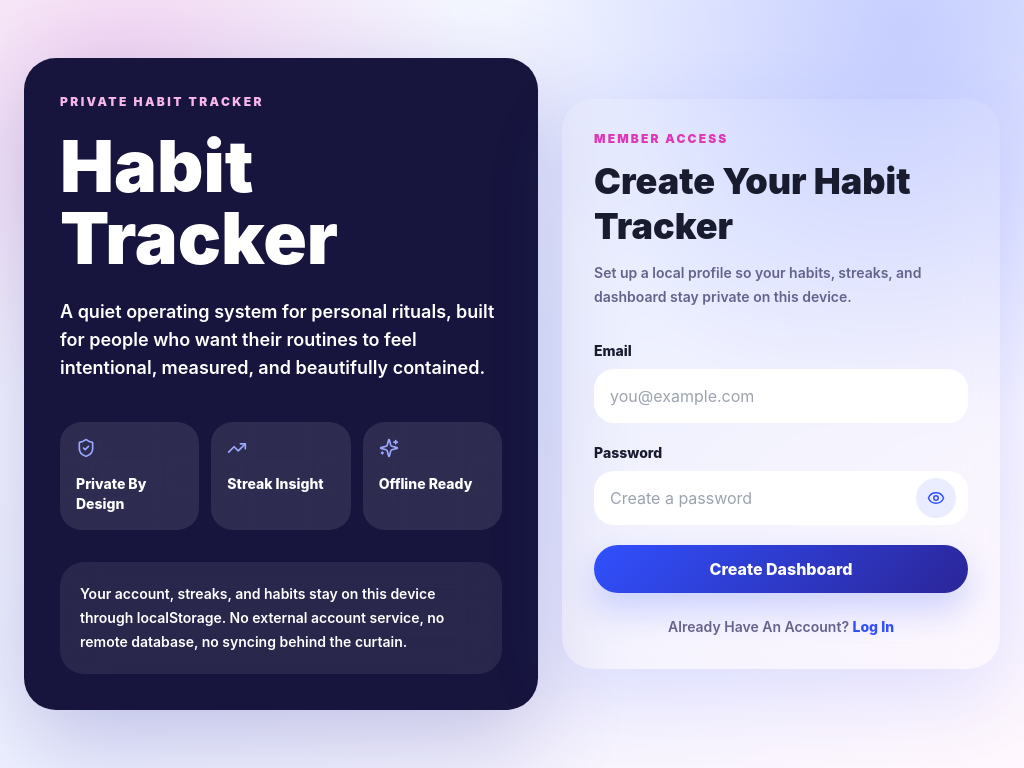
Test case: auth flow › shows an error for duplicate signup email
In the field with test id "auth-signup-email": (781, 396) left=594, top=369, right=968, bottom=423, type "person@example.com"
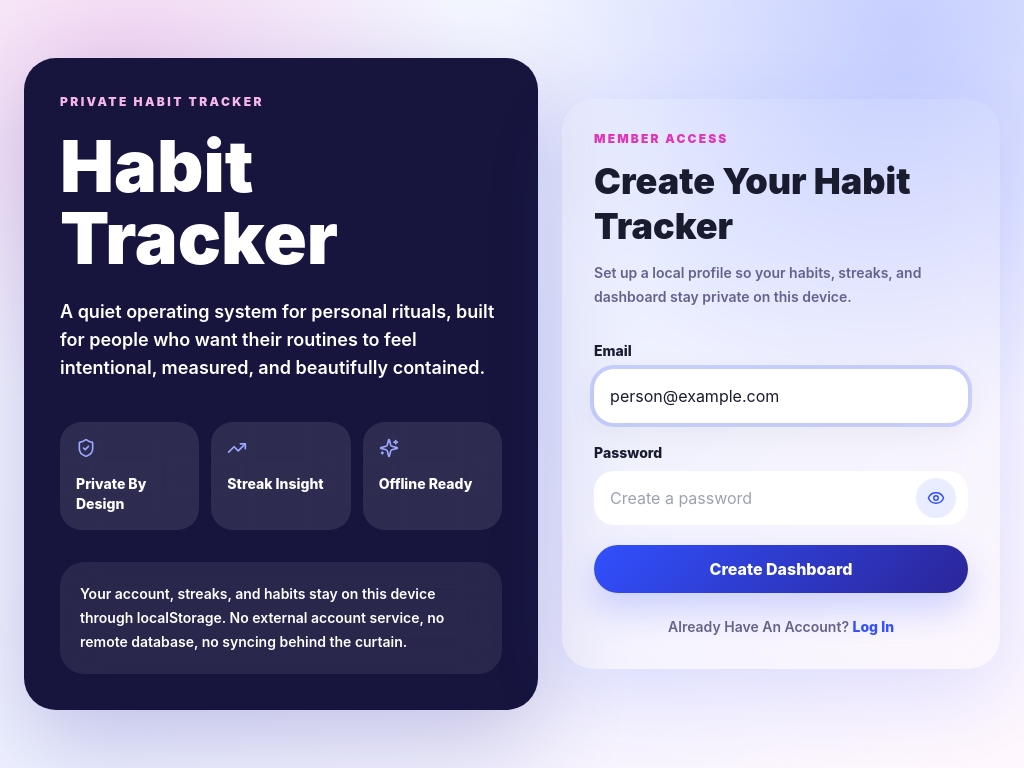
In the password field with test id "auth-signup-password": (781, 498) left=594, top=471, right=968, bottom=525, type "secret"
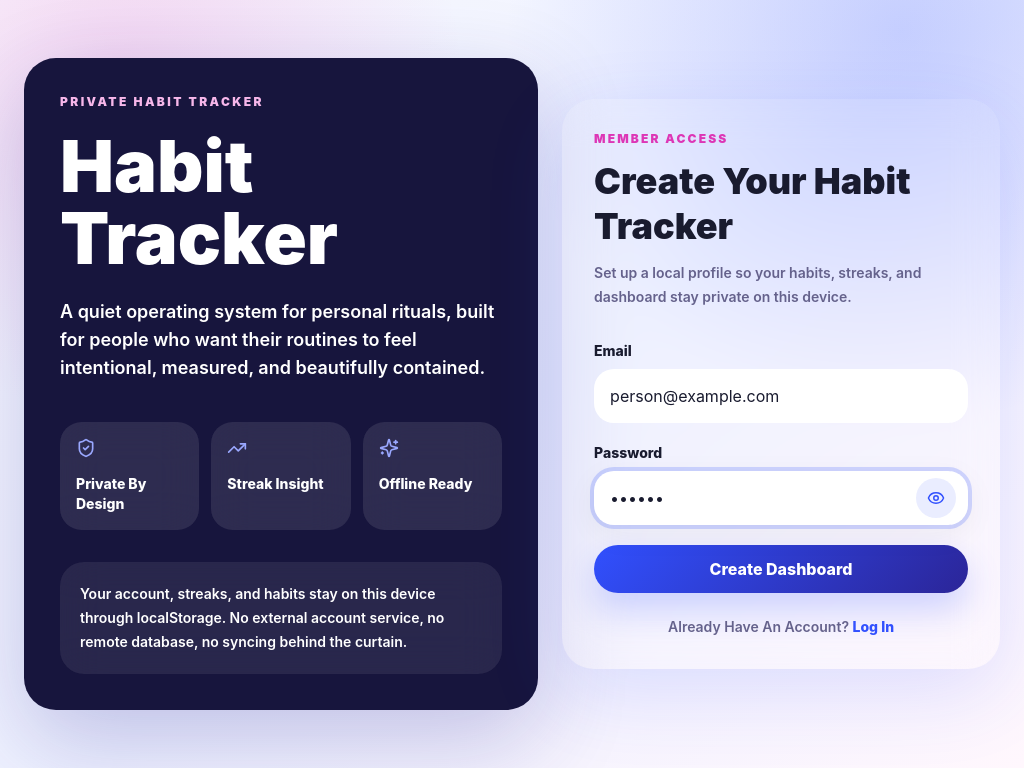
Click the button with test id "auth-signup-submit": (781, 569) left=594, top=545, right=968, bottom=593
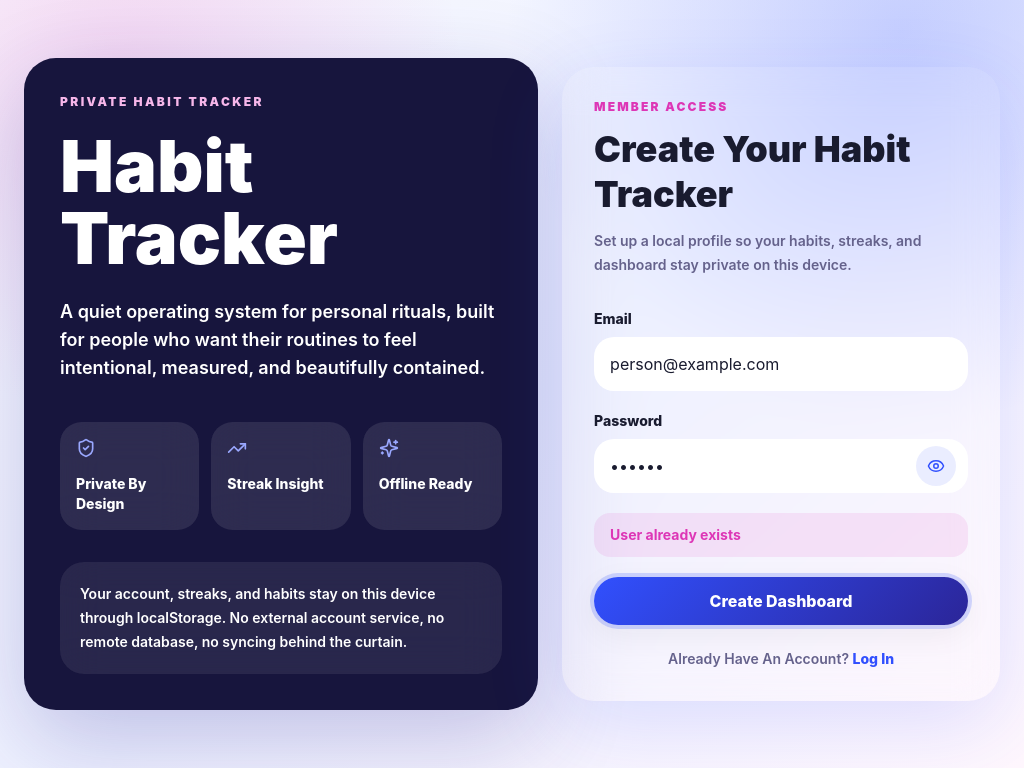
Result: the message reads "User already exists" at left=610, top=526, right=741, bottom=543
